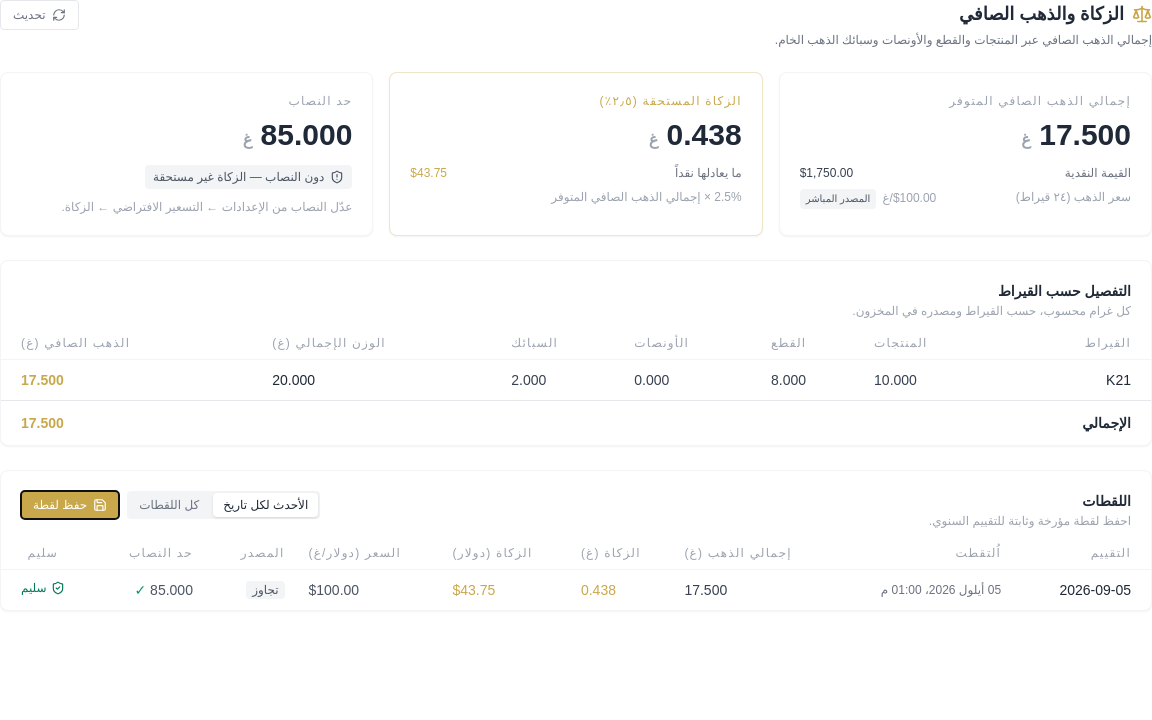
Scenario: zakat page labels and i18n (NEX-64) › snapshot dialog is a real modal dialog: named, focus moves in, Escape closes, focus goes back
Click the button "حفظ لقطة" at x=70, y=505, box left=21, top=491, right=119, bottom=519
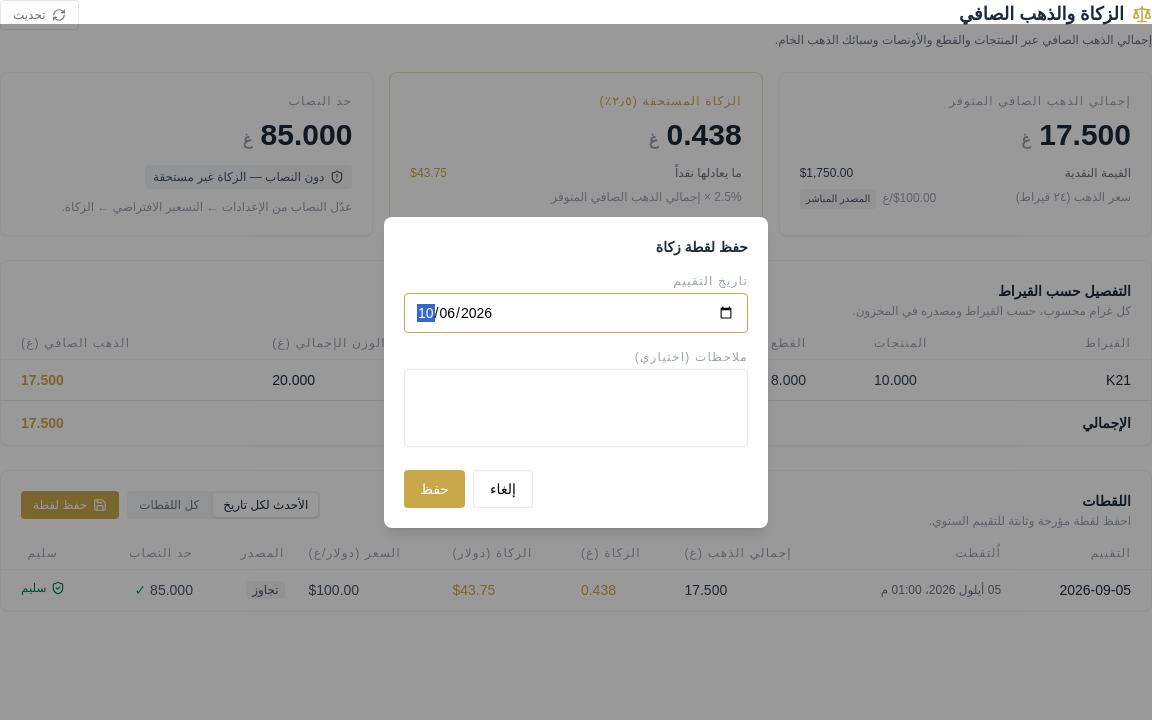
Press Escape
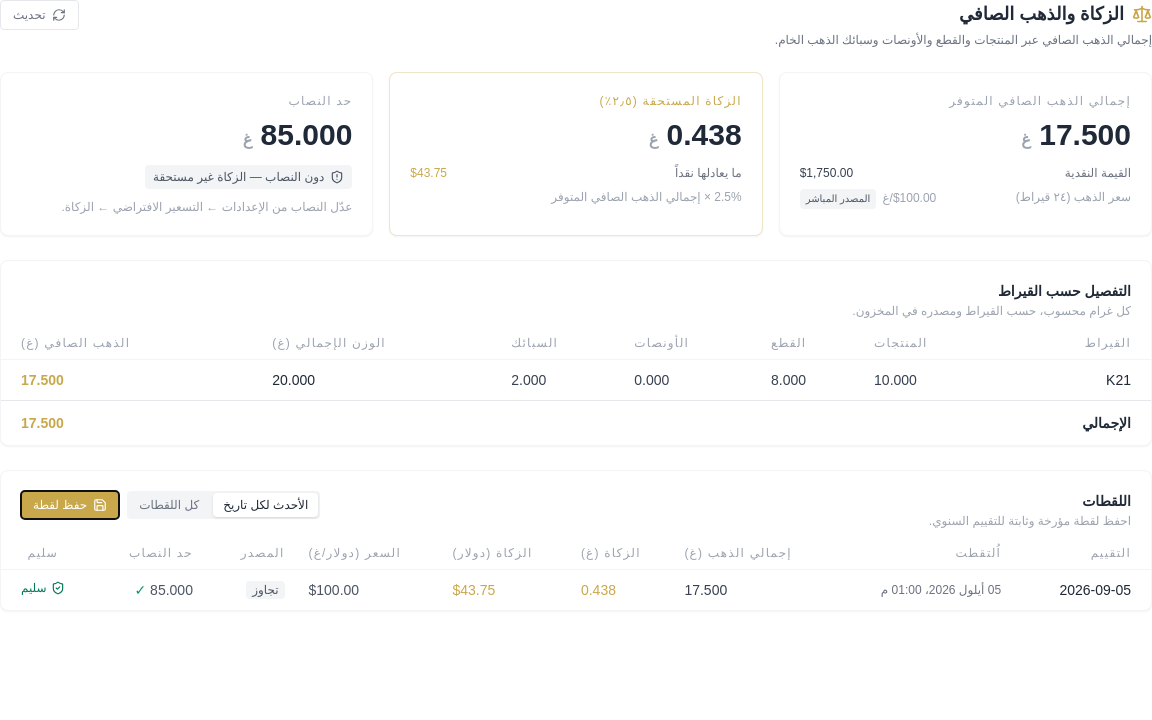
Now the dialog is gone
